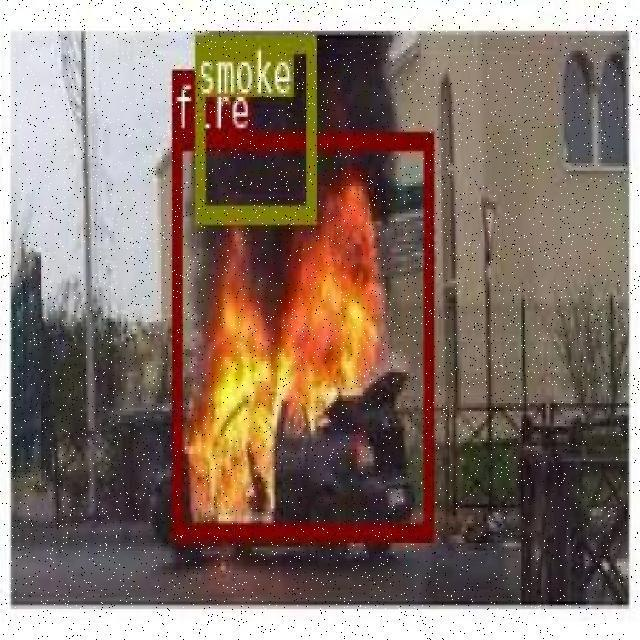Smoke: (195, 62, 314, 190)
